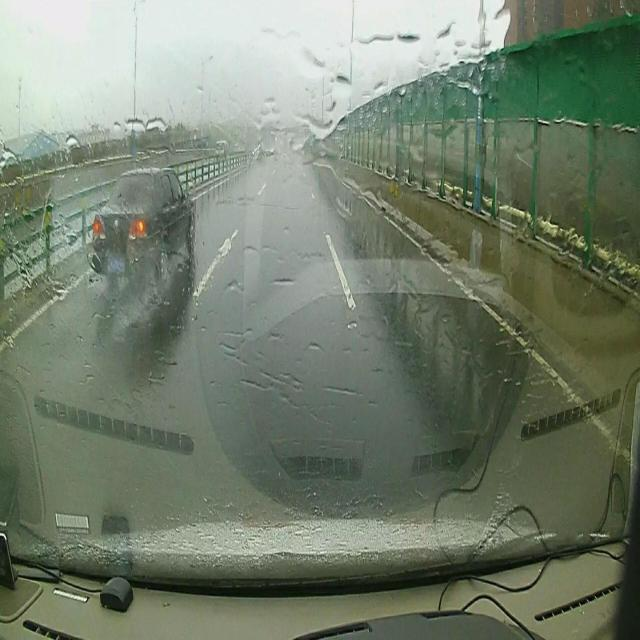car: (91, 166, 196, 287)
